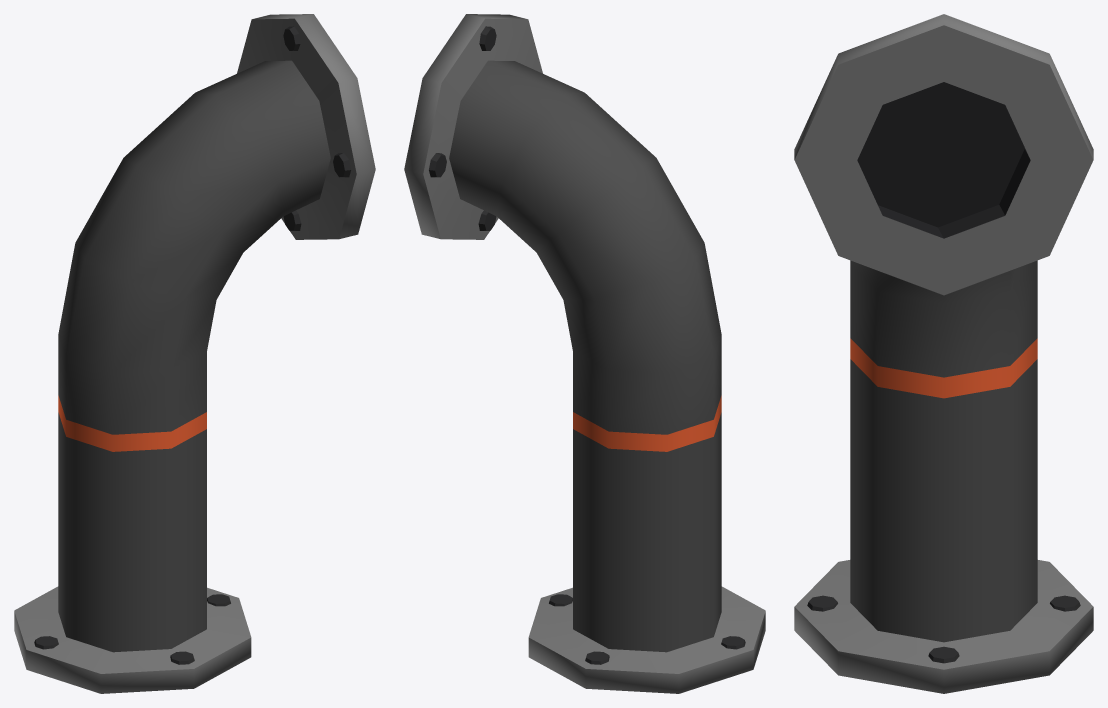
Rendered from Pipe_Curve_05M_01.glb.
The picture shows the model from 3 angles, left to right: view 1: azimuth 30°, elevation 25°; view 2: azimuth 150°, elevation 25°; view 3: azimuth 270°, elevation 25°; orthographic projection. The views are drawn at different scales.
Parts seen in each view (by area): view 1: Pipe_Curve_05M_01; view 2: Pipe_Curve_05M_01; view 3: Pipe_Curve_05M_01.
Part boxes in pixels (left/top/right/bottom): Pipe_Curve_05M_01: left=14, top=14, right=375, bottom=693; Pipe_Curve_05M_01: left=404, top=14, right=765, bottom=693; Pipe_Curve_05M_01: left=794, top=14, right=1093, bottom=693.
Size of what is drawn, in the model's own units: 0.4748 by 0.9213 by 0.35.
1 material, 1 textured.
